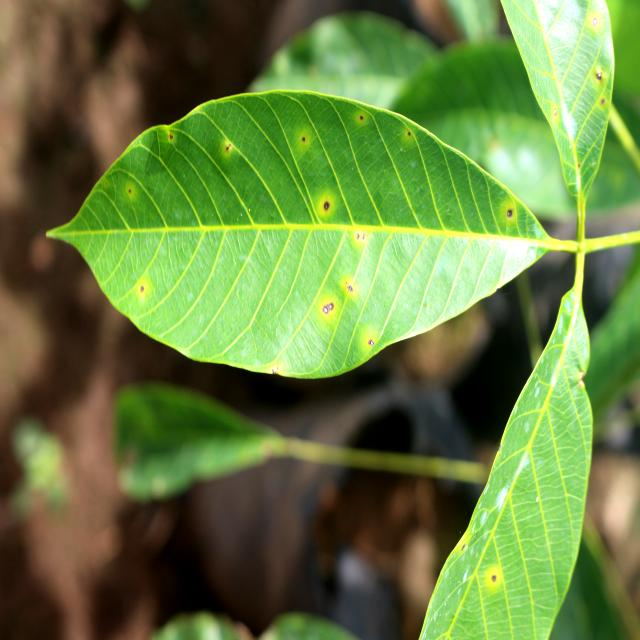Colletotrichum: (322, 306, 328, 314), (328, 302, 334, 310), (324, 202, 329, 210), (507, 210, 512, 217)
